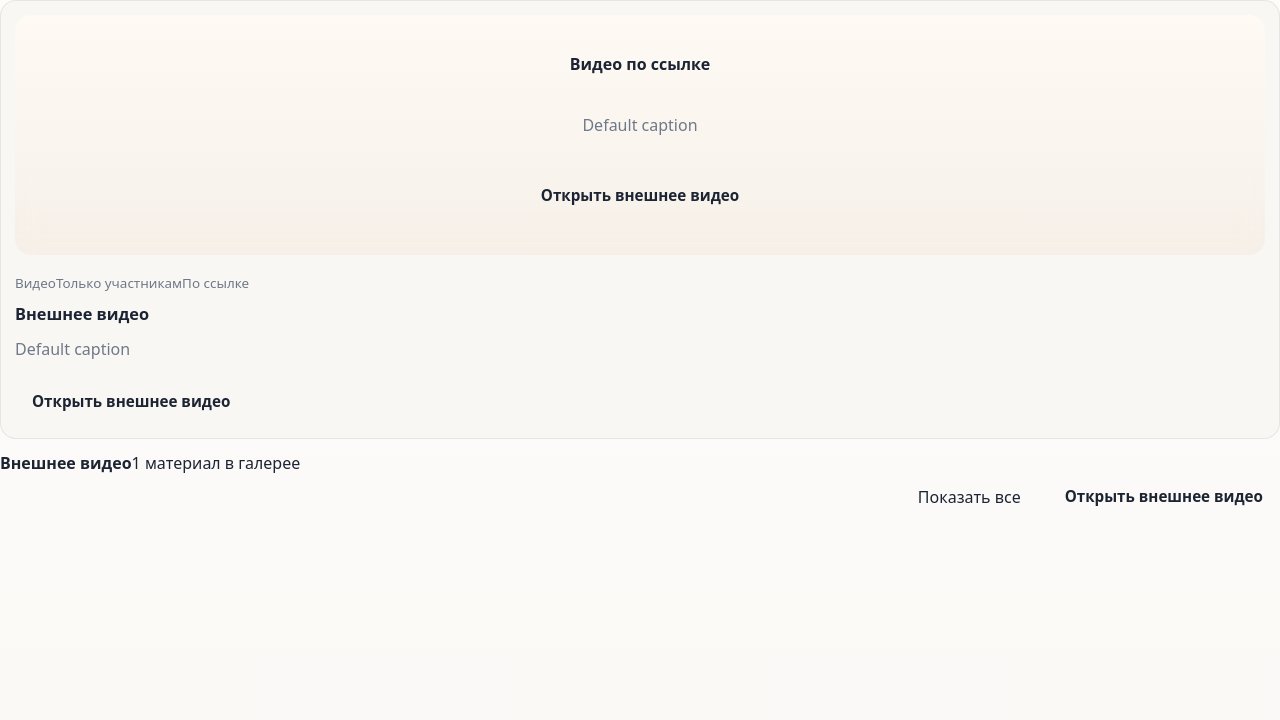
Scenario: person media gallery › keeps the same gallery action for external-only items and still exposes the direct link
The image size is (1280, 720).
Click the button "Показать все" at (969, 496), box [901, 474, 1038, 518]
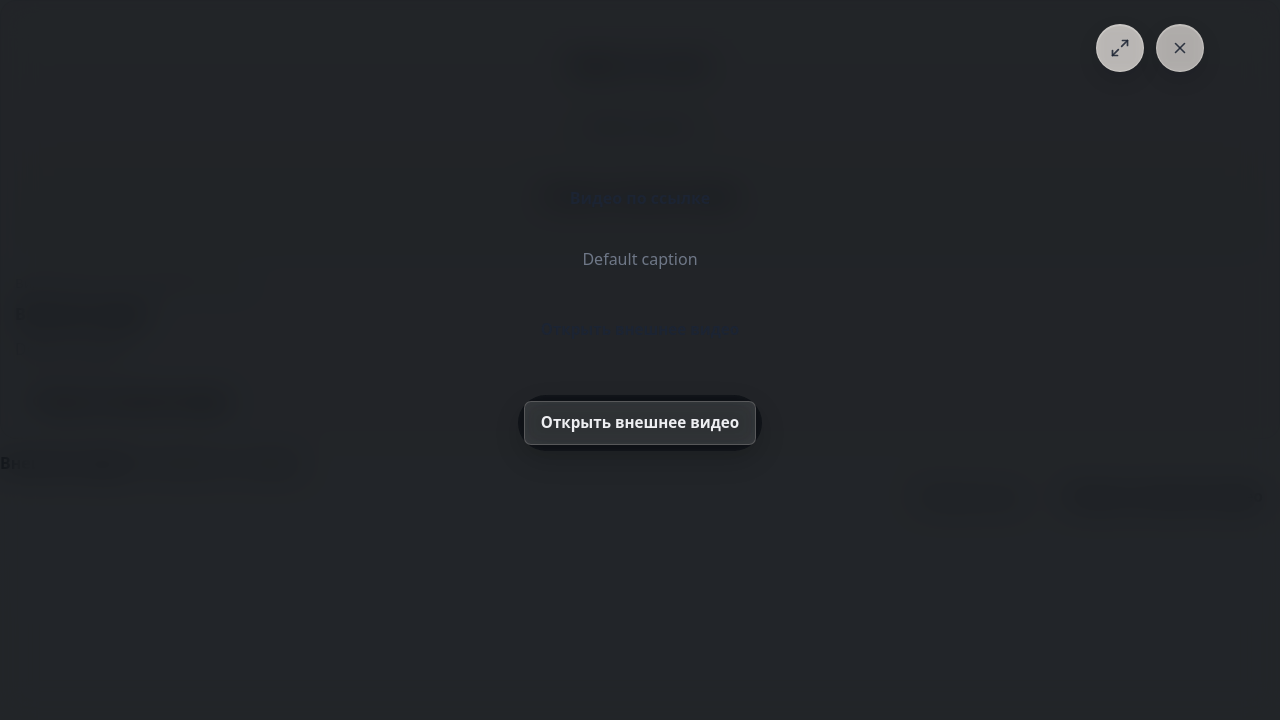
expect the dialog named "Просмотр медиа: Внешнее видео" is shown: met
